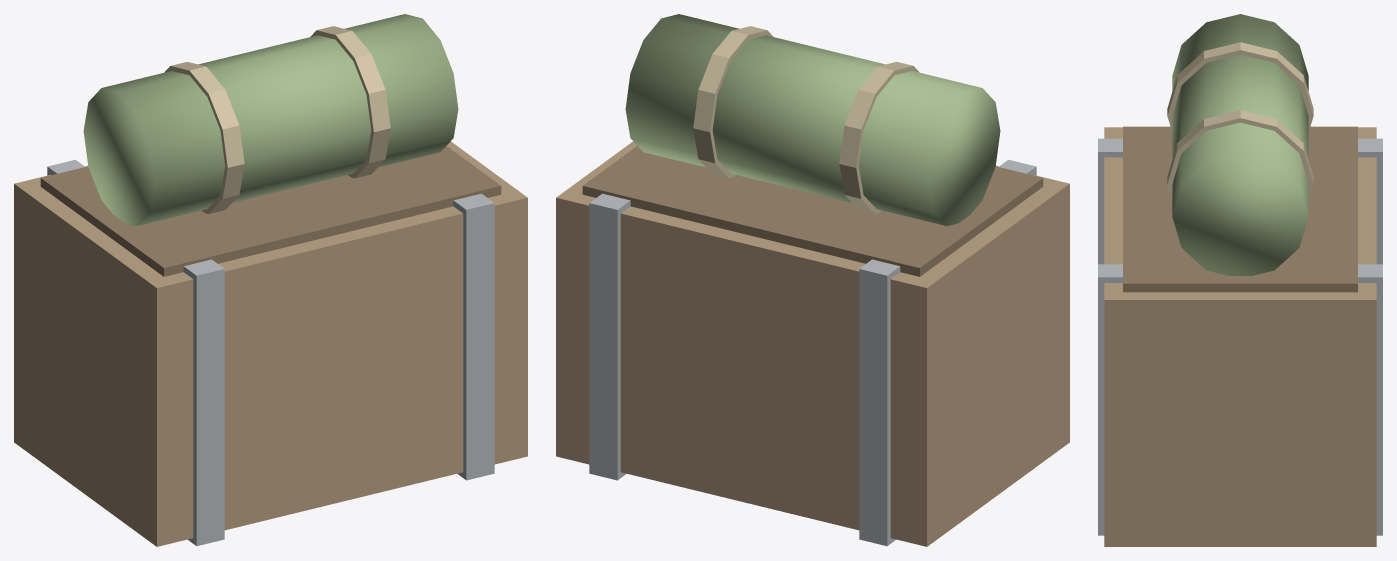
The model's file is supply.fbx.
3 views of the same model, side by side, from view 1: azimuth 30°, elevation 25°; view 2: azimuth 150°, elevation 25°; view 3: azimuth 270°, elevation 25° (orthographic). The views are drawn at different scales.
Parts seen in each view (by area): view 1: SupplyCache; view 2: SupplyCache; view 3: SupplyCache.
Part boxes in pixels (x1=…): SupplyCache: x1=14, y1=14, x2=527, y2=546; SupplyCache: x1=556, y1=14, x2=1069, y2=546; SupplyCache: x1=1098, y1=14, x2=1382, y2=546.
Bounding box in the file's own units: 66 × 68.8 × 46.
